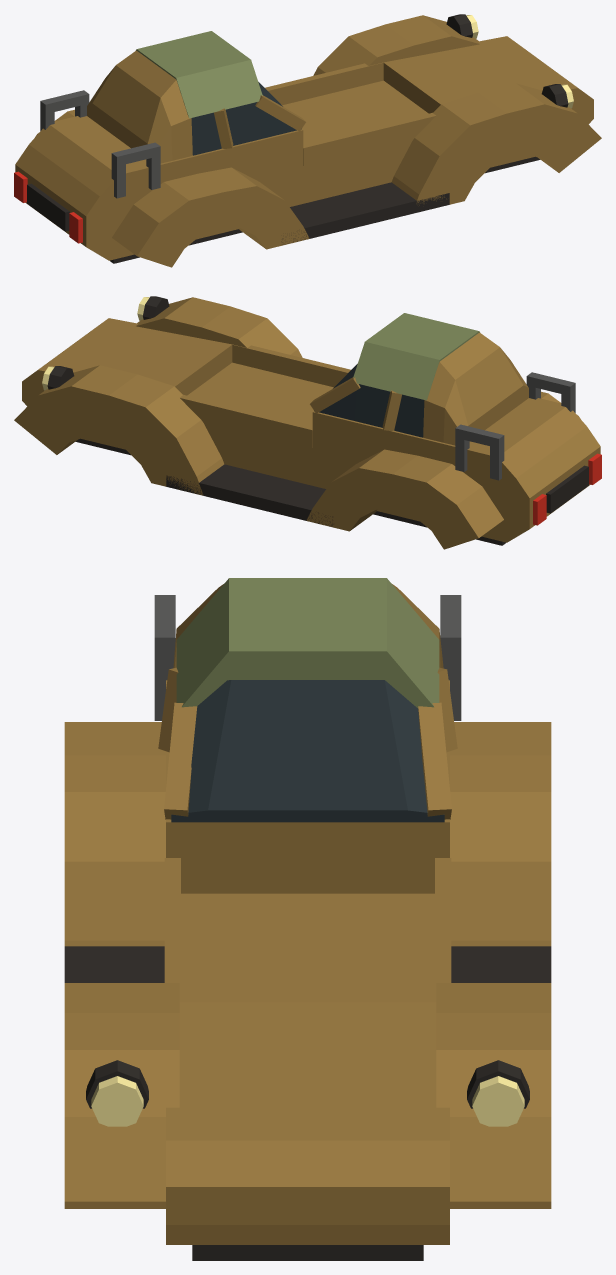
File: base_courier.glb
3 renders of one model, top to bottom at view 1: azimuth 30°, elevation 25°; view 2: azimuth 150°, elevation 25°; view 3: azimuth 270°, elevation 25°, orthographic. The views are drawn at different scales.
Parts seen in each view (by area): view 1: base_courier; view 2: base_courier; view 3: base_courier.
Part boxes in pixels (x1,y1,x2,y2): base_courier: (14,14,601,267); base_courier: (14,296,601,549); base_courier: (64,578,551,1260).
Bounding box in the file's own units: 4.51 × 1.36 × 1.86.
